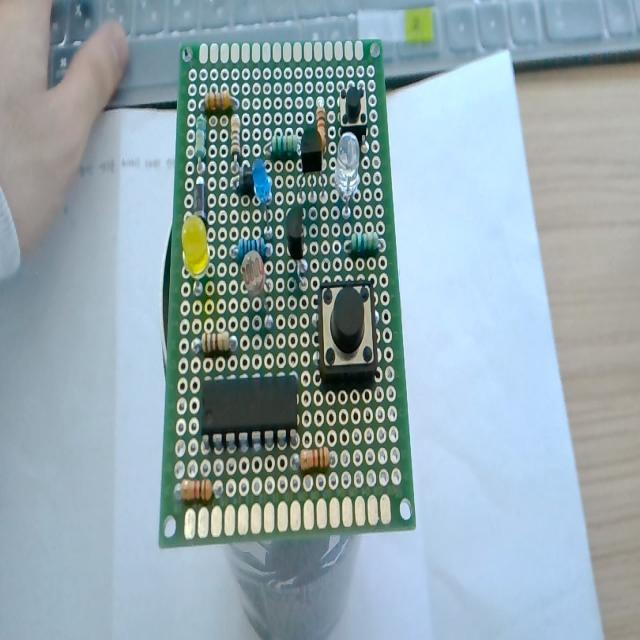IC: (196, 374, 310, 457)
cds: (236, 250, 278, 330)
led: (175, 210, 218, 306), (332, 126, 364, 224), (246, 151, 278, 234)
resistor: (172, 471, 220, 513), (280, 442, 336, 476), (191, 89, 241, 123), (192, 322, 236, 357), (340, 232, 384, 263), (226, 110, 246, 176), (265, 132, 303, 166)
switch: (312, 276, 382, 394), (336, 84, 372, 142)
transistor: (278, 199, 316, 291), (298, 126, 332, 196)
